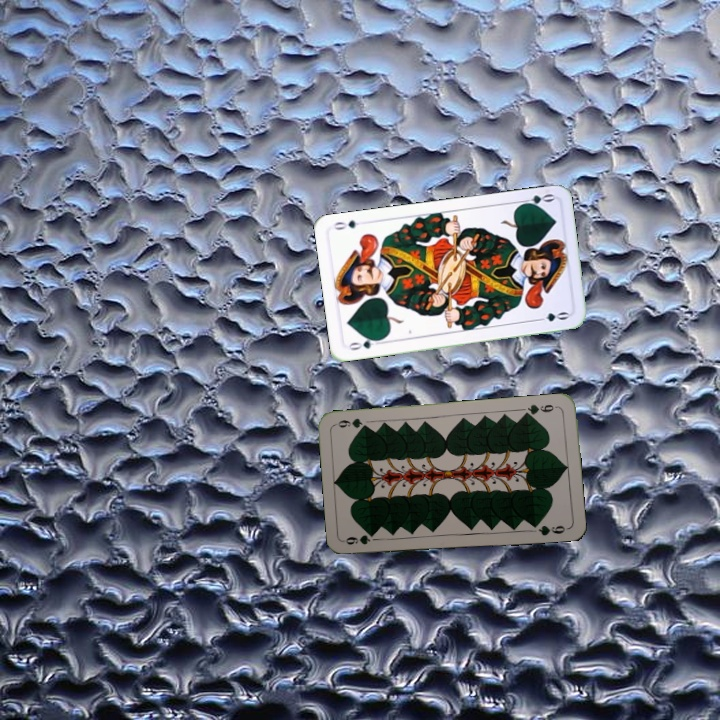G9: (520, 400, 561, 418), (342, 532, 373, 547)
GO: (515, 190, 556, 209), (345, 334, 385, 353)
